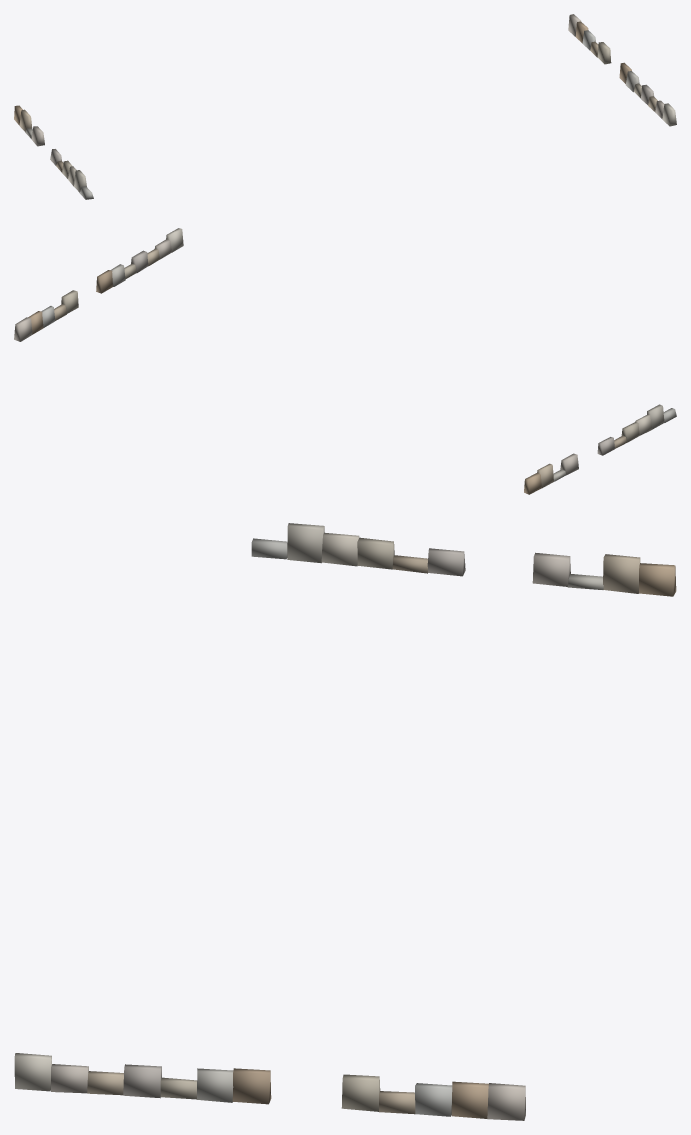
Rendered from farm_31_24_far.glb.
The picture shows the model from 3 angles, top to bottom: view 1: azimuth 30°, elevation 25°; view 2: azimuth 150°, elevation 25°; view 3: azimuth 270°, elevation 25°; orthographic projection. The views are drawn at different scales.
Visible parts, largest first — view 1: geometry_0; view 2: geometry_0; view 3: geometry_0.
Boxes of the visible parts, <box> form: geometry_0: <box>14,14,676,199</box>; geometry_0: <box>14,228,676,494</box>; geometry_0: <box>14,523,676,1120</box>.
Size of the model in its own units: 55.73 by 2.87 by 28.67.
